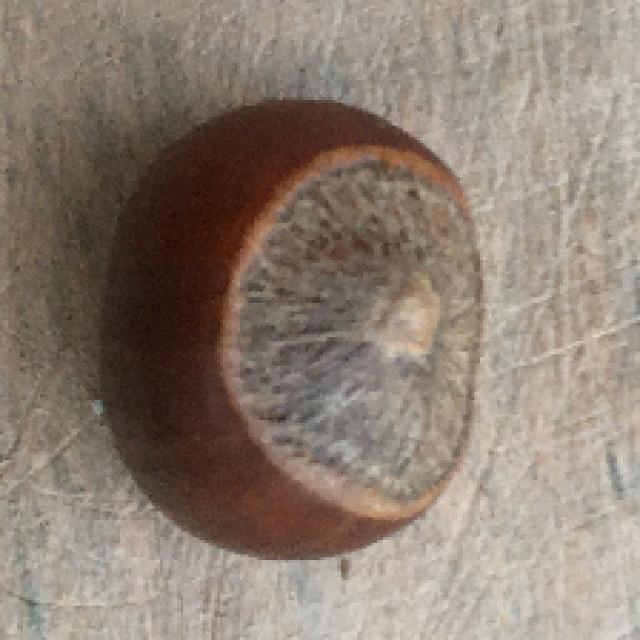damagedHazelnut: (72, 93, 498, 570)
